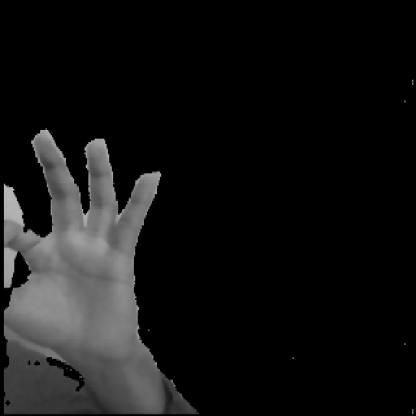ok: (4, 121, 187, 402)
